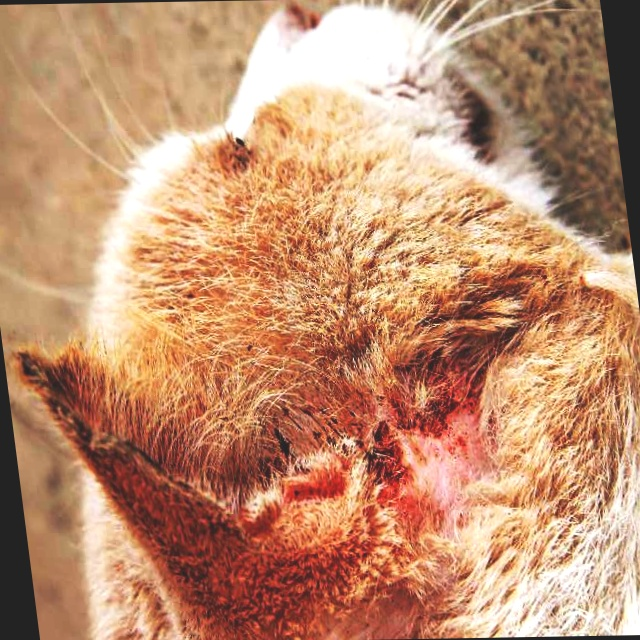ringworm: (265, 352, 518, 498)
